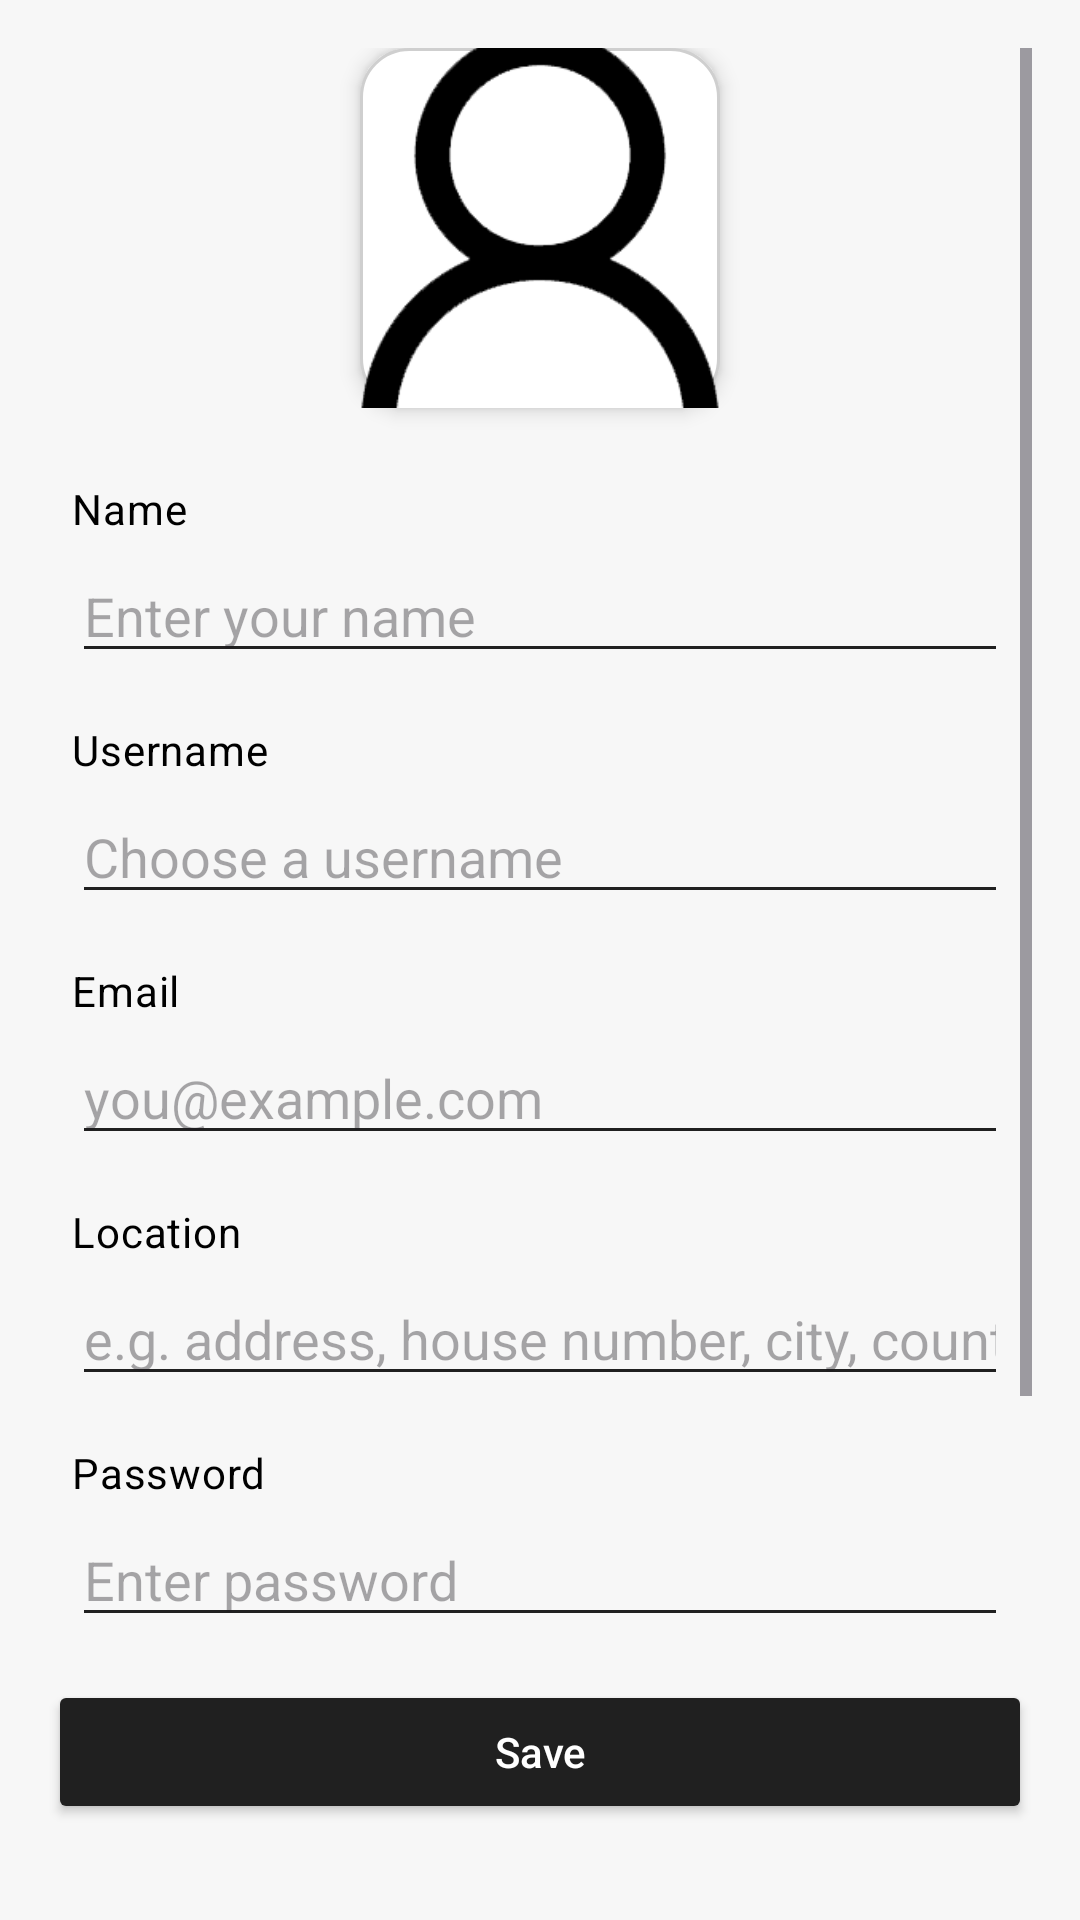

Locate icon controls on the screen. Image size 1080px×1920px, boxes as (x1, y1, x2, y2).
user: (360, 48, 720, 408)
